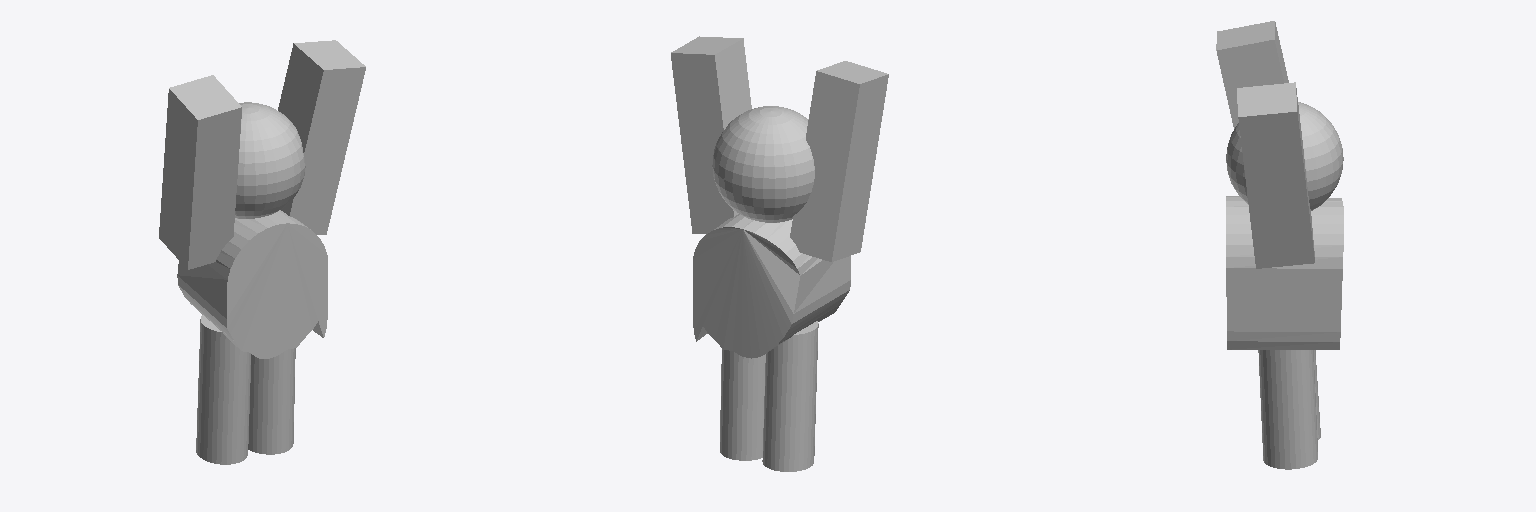
File: Figurine164.obj
3 views of the same model, side by side, from view 1: azimuth 30°, elevation 25°; view 2: azimuth 150°, elevation 25°; view 3: azimuth 270°, elevation 25° (orthographic).
Parts seen in each view (by area): view 1: Cylinder; view 2: Cylinder; view 3: Cylinder.
Boxes of the visible parts, <box> form: Cylinder: <box>159,40,365,464</box>; Cylinder: <box>671,36,888,471</box>; Cylinder: <box>1216,21,1343,469</box>.
Bounding box in the file's own units: 3.52 × 7.34 × 2.17.